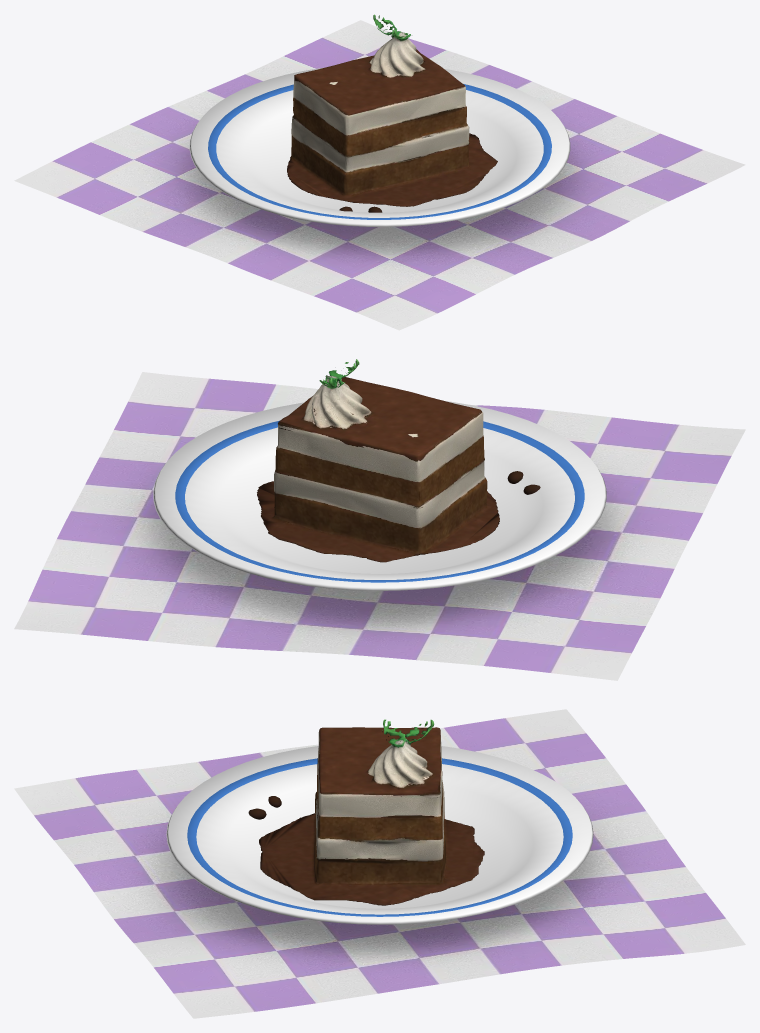
Rendered from tiramisu.glb.
3 renders of one model, top to bottom at view 1: azimuth 30°, elevation 25°; view 2: azimuth 150°, elevation 25°; view 3: azimuth 270°, elevation 25°, orthographic. The views are drawn at different scales.
Visible parts, largest first — view 1: tiramisu_cloth, tiramisu_food, plate, plate_rim; view 2: tiramisu_cloth, tiramisu_food, plate, plate_rim; view 3: tiramisu_cloth, plate, tiramisu_food, plate_rim.
Boxes of the visible parts, box(x1,y1,x2,y2) form: tiramisu_cloth: box(14, 20, 745, 330); tiramisu_food: box(287, 14, 497, 212); plate: box(189, 67, 570, 226); plate_rim: box(208, 84, 551, 219); tiramisu_cloth: box(14, 372, 745, 680); tiramisu_food: box(257, 359, 540, 562); plate: box(153, 401, 606, 590); plate_rim: box(175, 420, 584, 582); tiramisu_cloth: box(14, 709, 745, 1018); plate: box(166, 746, 593, 924); tiramisu_food: box(248, 719, 484, 905); plate_rim: box(187, 758, 572, 916).
Size of the model in its own units: 4.28 by 1.03 by 4.28.
4 materials, 2 textured.
